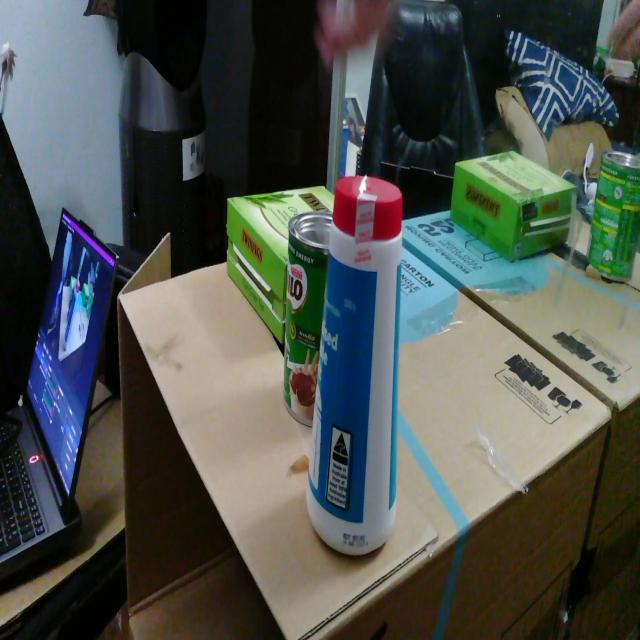nestle_milo_tin: (283, 211, 333, 427)
twinings_greentea_box: (227, 186, 335, 344)
woolworths_salt_bottle: (307, 176, 403, 555)
